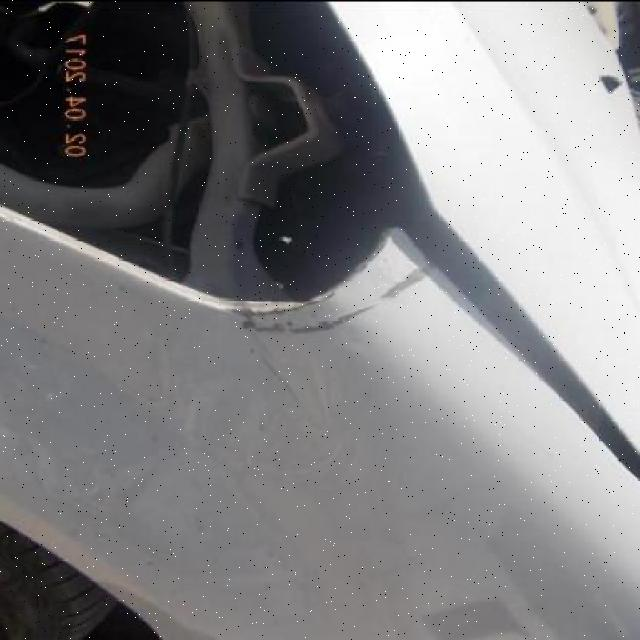damage: (221, 223, 438, 336), (238, 337, 316, 413)
